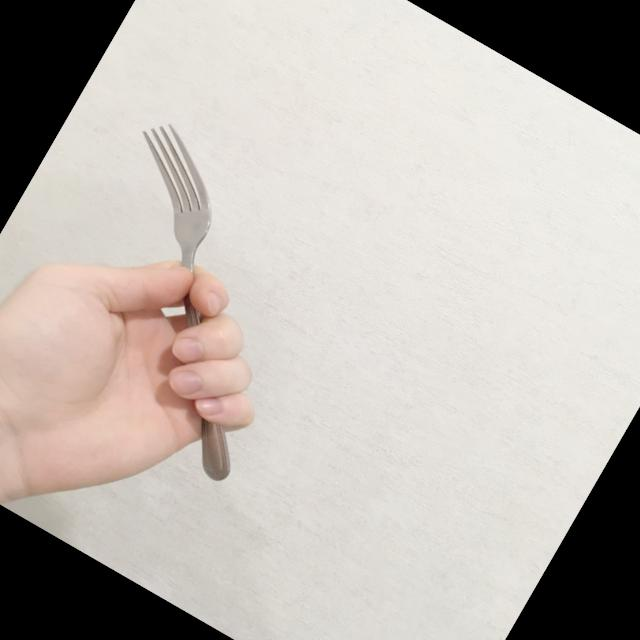fork: (7, 113, 365, 485)
